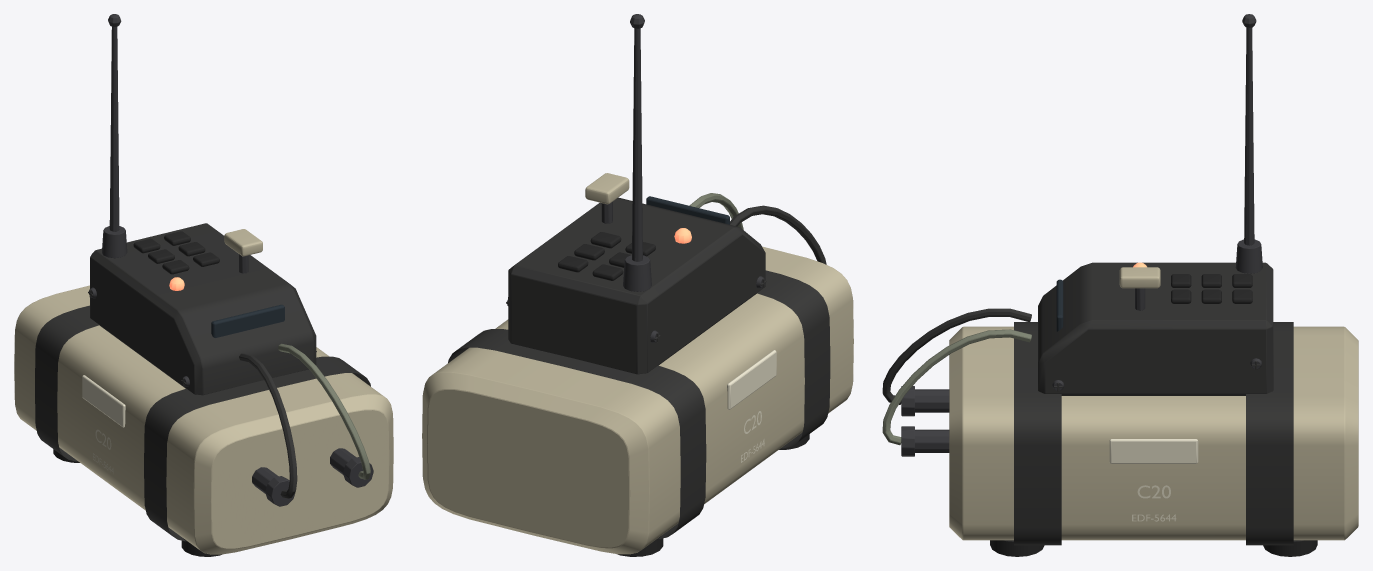
The model's file is cbomb.glb.
The picture shows the model from 3 angles, left to right: view 1: azimuth 30°, elevation 25°; view 2: azimuth 150°, elevation 25°; view 3: azimuth 270°, elevation 25°; orthographic projection. The views are drawn at different scales.
Parts seen in each view (by area): view 1: Body; view 2: Body; view 3: Body.
Boxes of the visible parts, x1,y1,x2,y2 form: Body: (14, 14, 393, 556); Body: (422, 14, 853, 556); Body: (882, 14, 1358, 556).
Size of the model in its own units: 0.0744 by 0.1542 by 0.1396.
